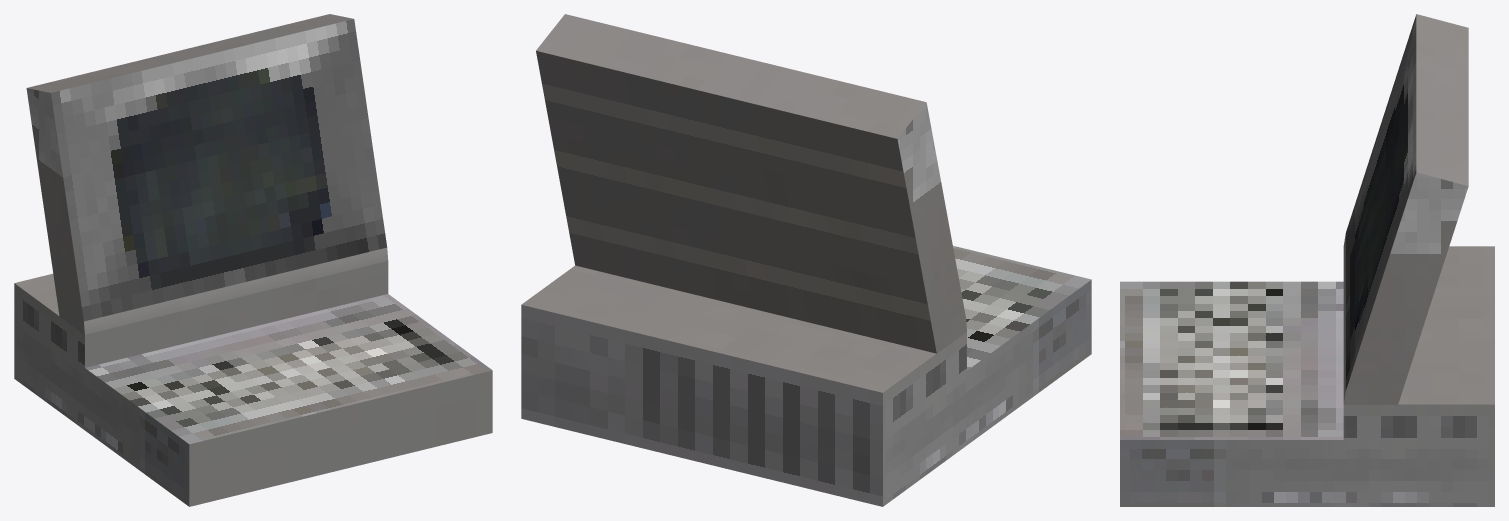
The model's file is Laptop.obj.
3 views of the same model, side by side, from view 1: azimuth 30°, elevation 25°; view 2: azimuth 150°, elevation 25°; view 3: azimuth 270°, elevation 25° (orthographic). The views are drawn at different scales.
Parts seen in each view (by area): view 1: pCube41; view 2: pCube41; view 3: pCube41.
Part boxes in pixels (x1,y1,x2,y2): pCube41: [14, 14, 492, 506]; pCube41: [521, 14, 1091, 506]; pCube41: [1120, 14, 1494, 506].
Size of the model in its own units: 0.5202 by 0.5124 by 0.5202.
Materials: 1 (1 with a texture image).
